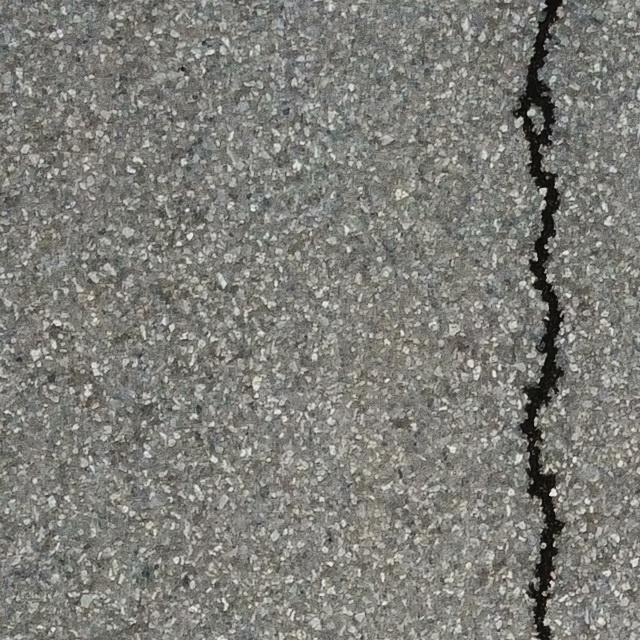LongitudinalCrack: (517, 1, 566, 637)
